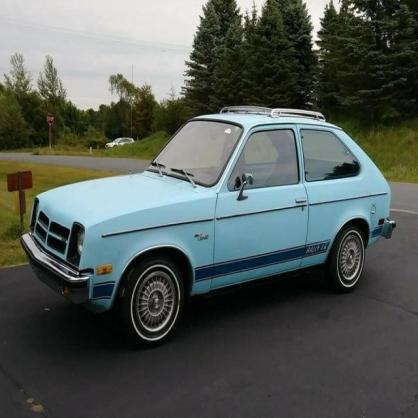car: (25, 106, 396, 343)
